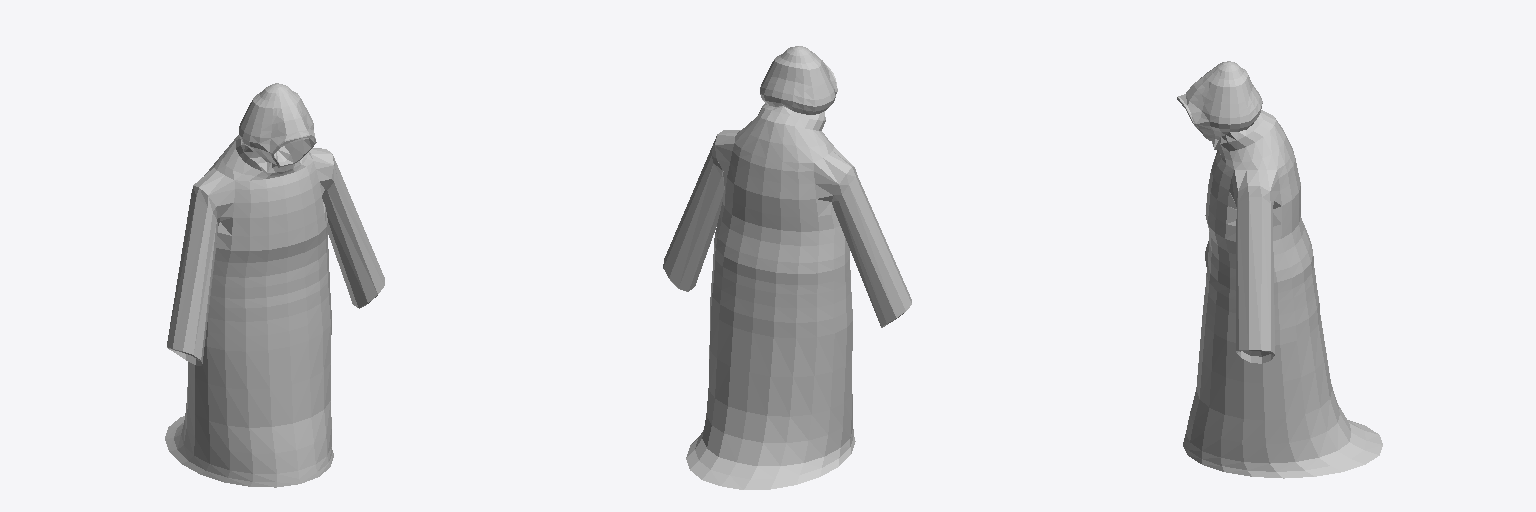
The model's file is figure.obj.
3 views of the same model, side by side, from view 1: azimuth 30°, elevation 25°; view 2: azimuth 150°, elevation 25°; view 3: azimuth 270°, elevation 25° (orthographic).
Visible parts, largest first — view 1: Figure; view 2: Figure; view 3: Figure.
Boxes of the visible parts, <box> form: Figure: <box>165,83,384,487</box>; Figure: <box>663,46,911,489</box>; Figure: <box>1177,61,1382,478</box>.
Size of the model in its own units: 0.1297 by 0.2086 by 0.102.